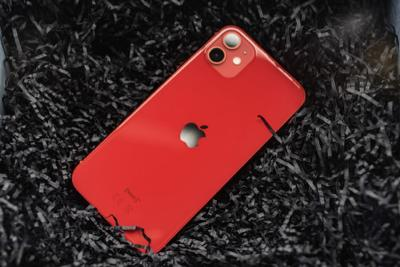Mobile Phone: (70, 24, 306, 254)
